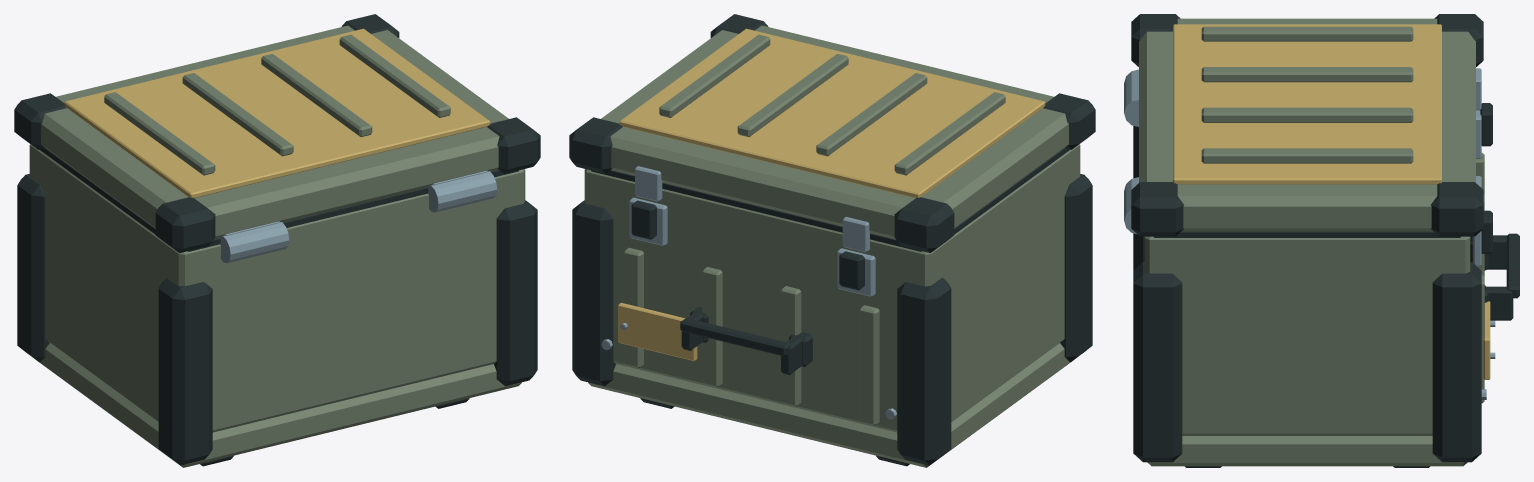
Rendered from field_supply_crate.glb.
3 renders of one model, left to right at view 1: azimuth 30°, elevation 25°; view 2: azimuth 150°, elevation 25°; view 3: azimuth 270°, elevation 25°, orthographic. The views are drawn at different scales.
Parts seen in each view (by area): view 1: body_back_wall, moving_lid_inset, moving_lid_shell, body_left_wall, corner_guard (×3), body_floor, moving_lid_rib (×4), moving_lid_corner (×4), hinge_body (×2), gasket_back, gasket_side; view 2: body_front_wall, moving_lid_inset, moving_lid_shell, body_left_wall, corner_guard (×3), body_floor, moving_lid_rib (×4), body_reinforcement (×4), moving_lid_corner (×4), type_plate, latch_release (×2), moving_latch_hook (×2) (+5 smaller); view 3: body_right_wall, moving_lid_inset, moving_lid_shell, corner_guard (×3), moving_lid_rib (×4), body_floor, moving_lid_corner (×4), gasket_side, hinge_body (×2), latch_release (×2), carry_handle_bar, carry_handle_right (+4 smaller).
Part boxes in pixels (box(x1,y1,x2,y2)): body_back_wall: box(172, 170, 523, 432); moving_lid_inset: box(64, 28, 490, 198); moving_lid_shell: box(41, 25, 508, 239); body_left_wall: box(29, 144, 196, 421); corner_guard (×3): box(17, 174, 537, 465); body_floor: box(34, 343, 521, 467); moving_lid_rib (×4): box(104, 34, 450, 175); moving_lid_corner (×4): box(14, 14, 540, 252); hinge_body (×2): box(220, 171, 497, 263); gasket_back: box(188, 170, 518, 251); gasket_side: box(40, 147, 155, 234); body_front_wall: box(586, 170, 938, 432); moving_lid_inset: box(619, 28, 1045, 198); moving_lid_shell: box(601, 25, 1068, 239); body_left_wall: box(913, 144, 1080, 421); corner_guard (×3): box(572, 174, 1092, 465); body_floor: box(588, 343, 1075, 467); moving_lid_rib (×4): box(659, 34, 1005, 175); body_reinforcement (×4): box(623, 247, 879, 425); moving_lid_corner (×4): box(569, 14, 1095, 252); type_plate: box(618, 302, 697, 361); latch_release (×2): box(631, 200, 864, 290); moving_latch_hook (×2): box(635, 166, 869, 252); body_right_wall: box(1144, 236, 1470, 435); moving_lid_inset: box(1173, 24, 1441, 184); moving_lid_shell: box(1139, 18, 1475, 231); corner_guard (×3): box(1133, 126, 1481, 462); moving_lid_rib (×4): box(1201, 26, 1413, 163); body_floor: box(1147, 436, 1467, 466); moving_lid_corner (×4): box(1131, 14, 1483, 236); gasket_side: box(1154, 231, 1460, 237); hinge_body (×2): box(1124, 69, 1138, 233); latch_release (×2): box(1480, 103, 1492, 253); carry_handle_bar: box(1506, 233, 1519, 298); carry_handle_right: box(1485, 286, 1513, 320).
Bounding box in the file's own units: 1.19 × 0.9025 × 1.04.
